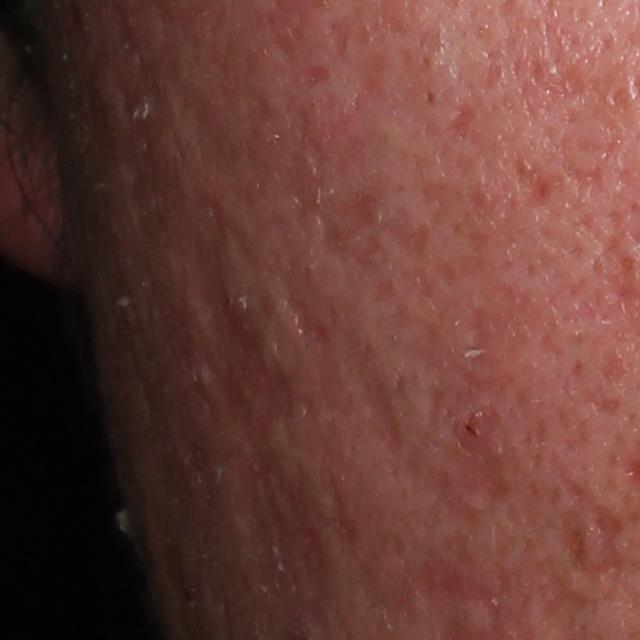atrophic_scar: (186, 206, 317, 581), (399, 267, 539, 506), (259, 246, 354, 428), (351, 344, 409, 454), (427, 92, 476, 148), (515, 172, 558, 214)
comedo: (421, 88, 439, 107)
